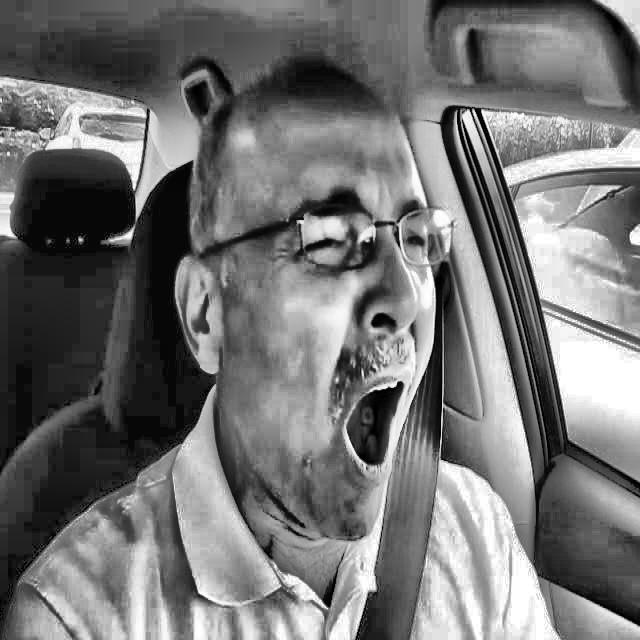closed_eyes: (282, 221, 364, 278), (397, 219, 454, 266)
open_mouth: (318, 354, 425, 501)
